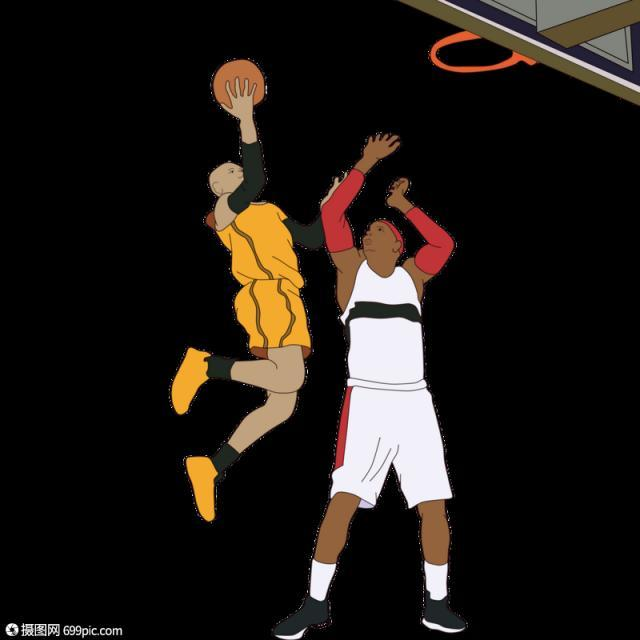rim: (210, 58, 268, 112)
